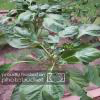Bell_pepper leaf: (19, 73, 68, 99), (0, 24, 40, 48), (66, 76, 90, 95), (42, 14, 67, 32), (75, 47, 99, 62), (77, 23, 99, 36), (58, 26, 78, 38)
